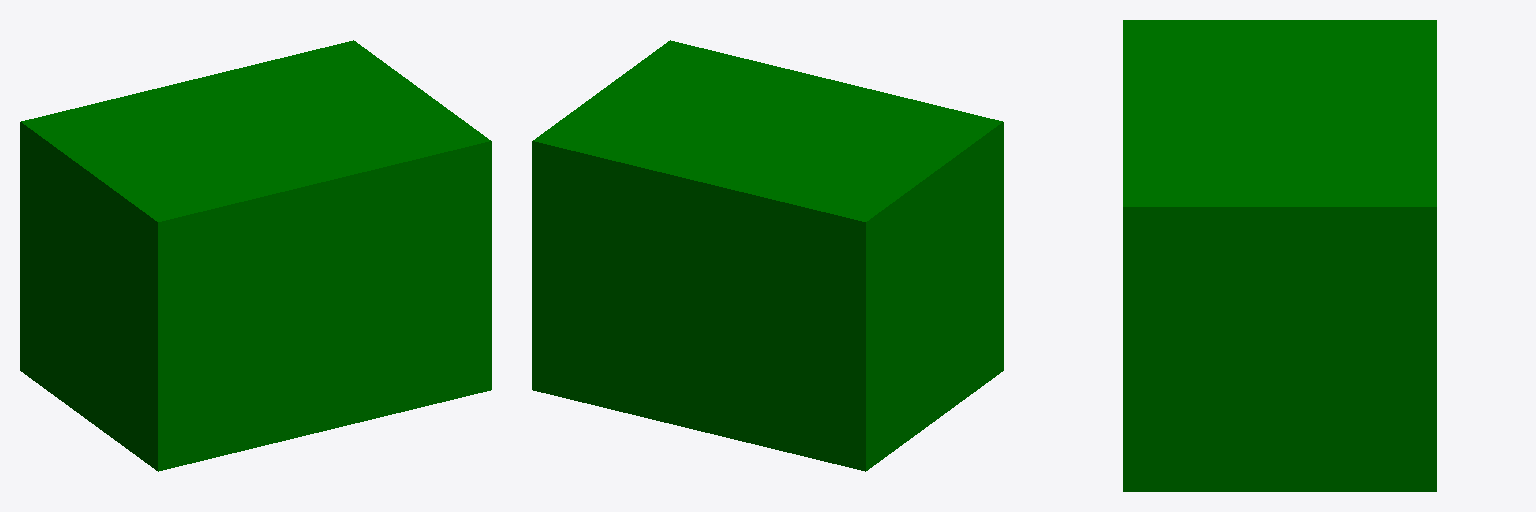
The robot description file, URDF, robot "block_red":
<?xml version="1.0"?>
<!-- color: green -->
<robot name="block_red">
  <link name="base_link">
    <contact>
      <lateral_friction value="0.7"/>
      <spinning_friction value=".001"/>
    </contact>
    <inertial>
      <origin rpy="0 0 0" xyz="0 0 0"/>
      <mass value="1"/>
      <inertia ixx="1" ixy="0" ixz="0" iyy="1" iyz="0" izz="1"/>
    </inertial>
    <visual>
      <origin rpy="0 0 0" xyz="0.0 0.0 0.0"/>
      <geometry>
        <box size="0.07 0.05 0.05"/>
      </geometry>
      <material name="green">
        <color rgba="0.0 0.5 0.0 1.0"/>
      </material>
    </visual>
    <collision>
      <origin rpy="0 0 0" xyz="0.0 0.0 0.0"/>
      <geometry>
        <box size="0.07 0.05 0.05"/>
      </geometry>
    </collision>
  </link>
</robot>

--- What the picture shows (computed from the rendered views, not written in the file) ---
Views: 3 orthographic renders of the robot side by side, from view 1: azimuth 30°, elevation 25°; view 2: azimuth 150°, elevation 25°; view 3: azimuth 270°, elevation 25°.
Robot: block_red — 1 links, 0 joints (none); root link base_link; default pose: every joint at zero.
Visible links, largest first — view 1: base_link; view 2: base_link; view 3: base_link.
Boxes of the visible links, x1,y1,x2,y2 form: base_link: [20, 40, 491, 471]; base_link: [532, 40, 1003, 471]; base_link: [1123, 20, 1436, 491].
Bounding box of the posed robot: 0.07 × 0.05 × 0.05 m (x, y, z).
Geometry: primitives only (box / cylinder / sphere), no mesh files.
